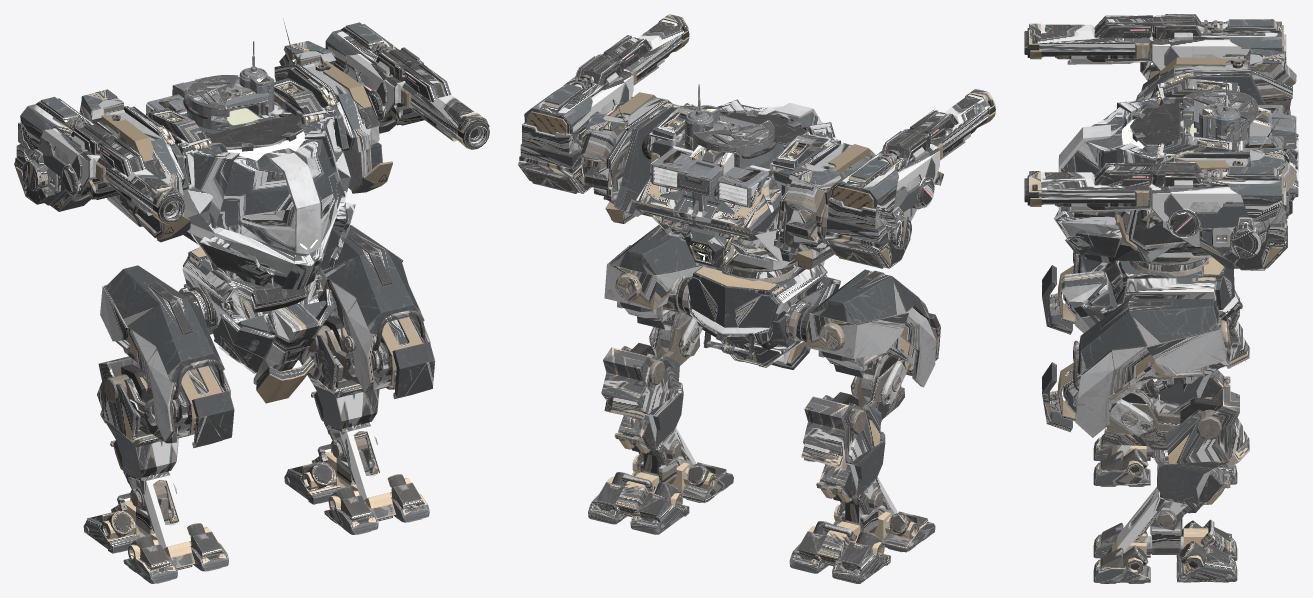
The model's file is executor.glb.
3 views of the same model, side by side, from view 1: azimuth 30°, elevation 25°; view 2: azimuth 150°, elevation 25°; view 3: azimuth 270°, elevation 25° (orthographic).
Parts seen in each view (by area): view 1: LEGS P UPPER_LEGS P UPPER_0, LEGS P LOWER_LEGS P LOWER_0, TORSO PF_TORSO PF_0, GUN B_GUN B_0, CHASIS P_CHASIS P_0, SHOULDER B_SHOULDER B_0, TORSO B_TORSO B_0, TORSO C_TORSO C_0, GUN S_GUN S_0, LEGS S LOWER_LEGS S LOWER_0, CHASIS S_CHASIS S_0, LEGS S UPPER_LEGS S UPPER_0 (+2 smaller); view 2: LEGS P LOWER_LEGS P LOWER_0, GUN B_GUN B_0, LEGS P UPPER_LEGS P UPPER_0, TORSO B_TORSO B_0, TORSO PB_TORSO PB_0, TORSO C_TORSO C_0, GUN S_GUN S_0, CHASIS S_CHASIS S_0, CHASIS P_CHASIS P_0, SHOULDER B_SHOULDER B_0, LEGS S LOWER_LEGS S LOWER_0, TORSO S_TORSO S_0 (+3 smaller); view 3: GUN B_GUN B_0, LEGS P LOWER_LEGS P LOWER_0, LEGS P UPPER_LEGS P UPPER_0, TORSO PF_TORSO PF_0, GUN S_GUN S_0, TORSO B_TORSO B_0, TORSO C_TORSO C_0, SHOULDER B_SHOULDER B_0, LEGS S LOWER_LEGS S LOWER_0, CHASIS S_CHASIS S_0, CHASIS P_CHASIS P_0, LEGS S UPPER_LEGS S UPPER_0 (+3 smaller).
Part boxes in pixels (box(x1,y1,x2,y2)): LEGS P UPPER_LEGS P UPPER_0: box(100, 225, 435, 448); LEGS P LOWER_LEGS P LOWER_0: box(83, 315, 429, 583); TORSO PF_TORSO PF_0: box(182, 114, 355, 289); GUN B_GUN B_0: box(14, 22, 489, 221); CHASIS P_CHASIS P_0: box(182, 247, 335, 403); SHOULDER B_SHOULDER B_0: box(79, 47, 392, 242); TORSO B_TORSO B_0: box(124, 64, 355, 261); TORSO C_TORSO C_0: box(147, 41, 274, 130); GUN S_GUN S_0: box(15, 42, 489, 224); LEGS S LOWER_LEGS S LOWER_0: box(84, 316, 421, 583); CHASIS S_CHASIS S_0: box(178, 247, 322, 373); LEGS S UPPER_LEGS S UPPER_0: box(132, 233, 425, 432); LEGS P LOWER_LEGS P LOWER_0: box(588, 346, 935, 583); GUN B_GUN B_0: box(518, 14, 995, 268); LEGS P UPPER_LEGS P UPPER_0: box(604, 225, 940, 409); TORSO B_TORSO B_0: box(606, 102, 841, 272); TORSO PB_TORSO PB_0: box(634, 145, 782, 269); TORSO C_TORSO C_0: box(651, 84, 777, 219); GUN S_GUN S_0: box(520, 19, 995, 265); CHASIS S_CHASIS S_0: box(678, 263, 827, 367); CHASIS P_CHASIS P_0: box(687, 260, 840, 369); SHOULDER B_SHOULDER B_0: box(580, 92, 875, 268); LEGS S LOWER_LEGS S LOWER_0: box(614, 343, 929, 581); TORSO S_TORSO S_0: box(615, 101, 840, 269); GUN B_GUN B_0: box(1024, 14, 1287, 270); LEGS P LOWER_LEGS P LOWER_0: box(1093, 297, 1249, 582); LEGS P UPPER_LEGS P UPPER_0: box(1042, 254, 1230, 437); TORSO PF_TORSO PF_0: box(1054, 97, 1183, 263); GUN S_GUN S_0: box(1027, 20, 1286, 268); TORSO B_TORSO B_0: box(1116, 69, 1292, 265); TORSO C_TORSO C_0: box(1182, 80, 1298, 166); SHOULDER B_SHOULDER B_0: box(1116, 51, 1296, 255); LEGS S LOWER_LEGS S LOWER_0: box(1099, 361, 1245, 583); CHASIS S_CHASIS S_0: box(1112, 257, 1242, 333); CHASIS P_CHASIS P_0: box(1061, 260, 1240, 328); LEGS S UPPER_LEGS S UPPER_0: box(1049, 251, 1187, 436).
Bounding box in the file's own units: 0.8455 × 1 × 0.5496.
15 materials, 15 textured.
